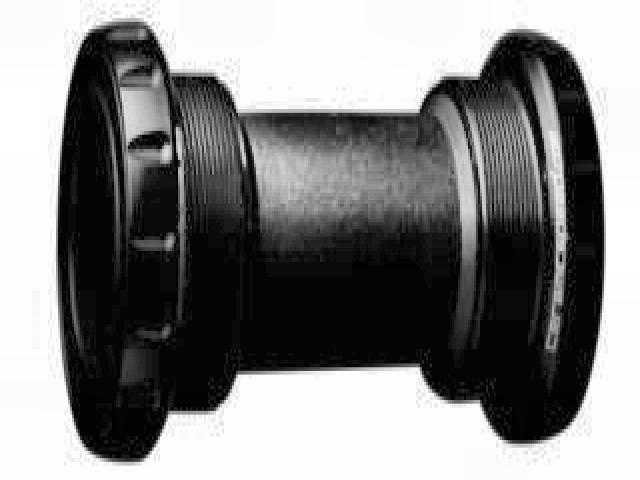bottom_bracket: (52, 18, 608, 464)
